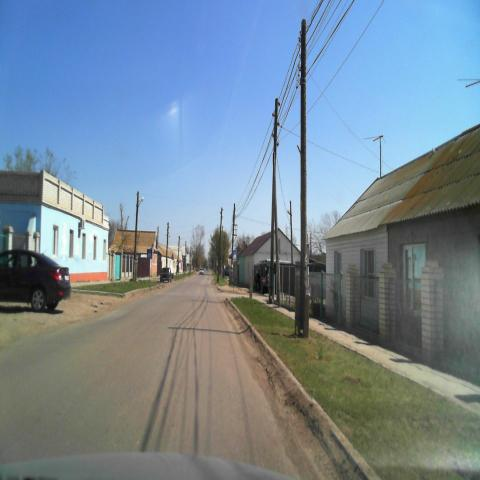5_19_1: (146, 248, 152, 258), (232, 249, 236, 259)
